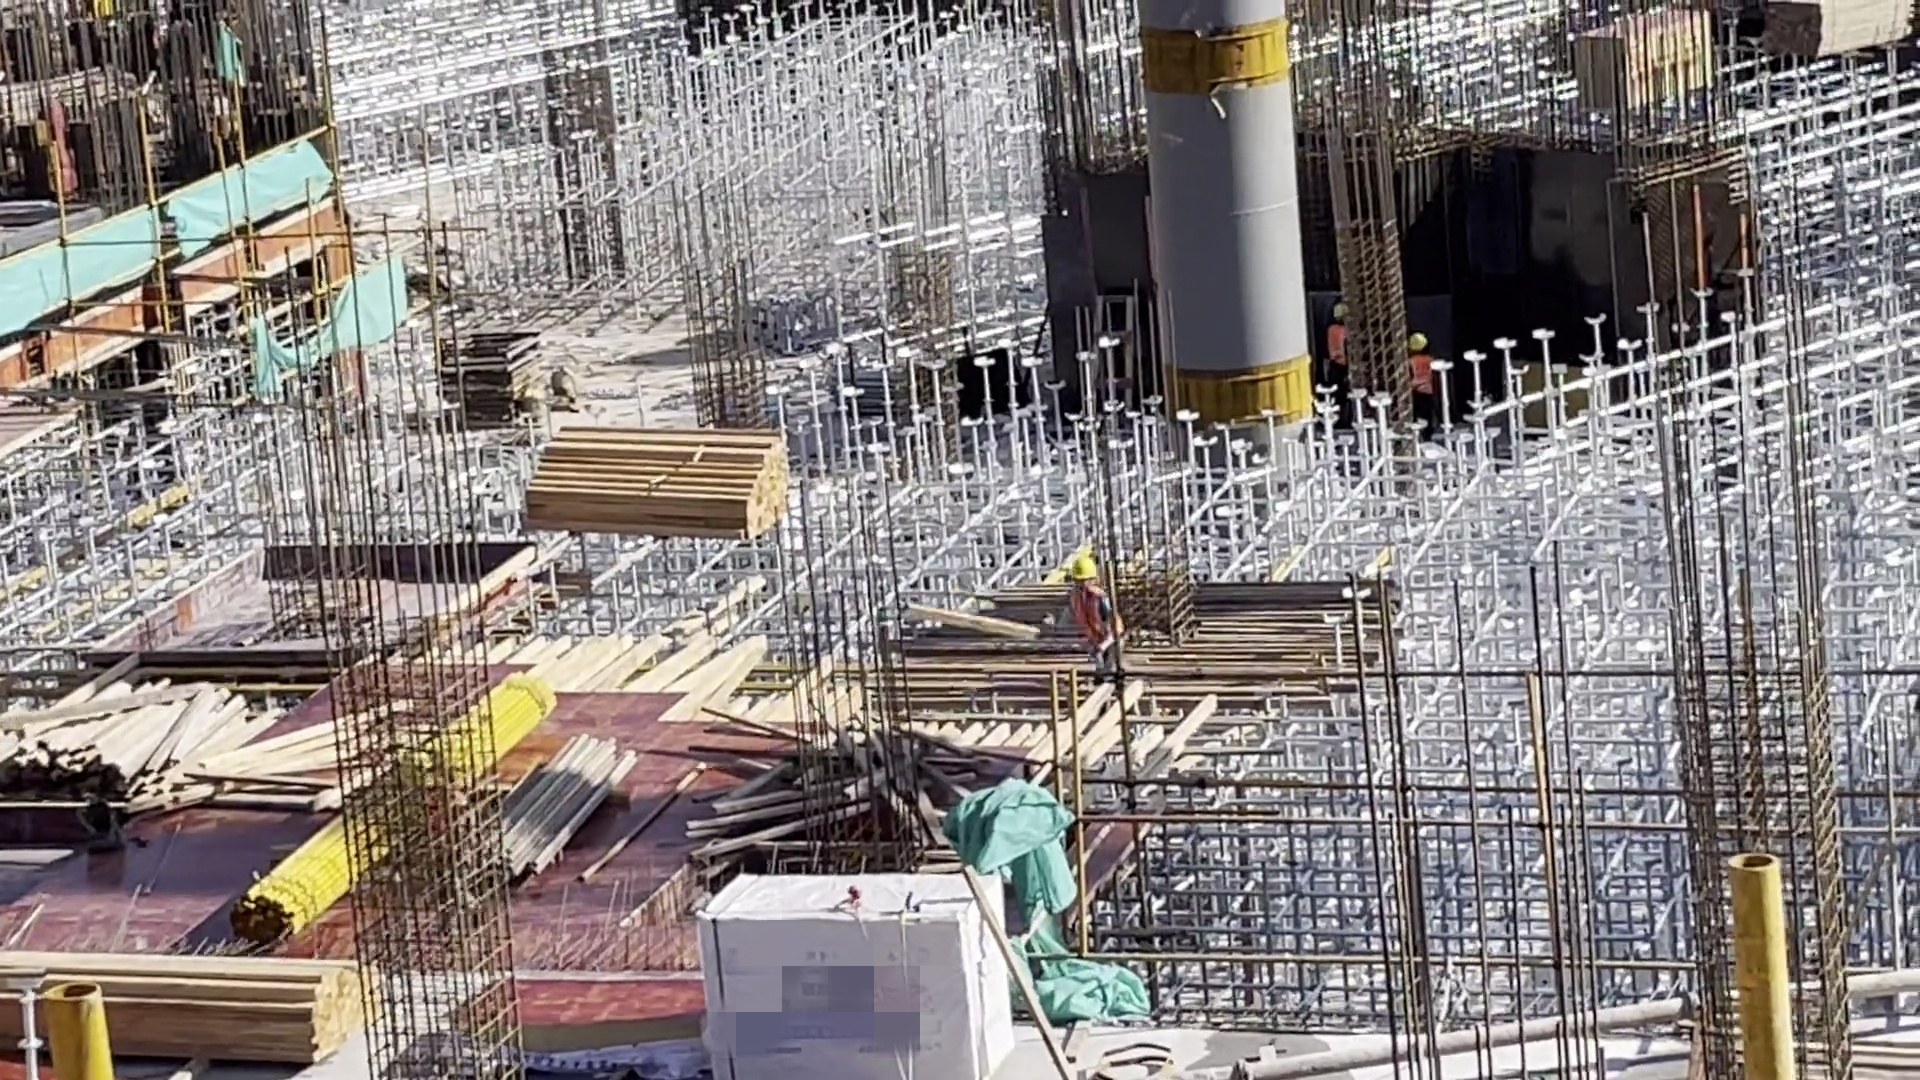board: (436, 305, 550, 427)
helmet: (1070, 555, 1105, 589), (1403, 331, 1432, 352), (1329, 300, 1352, 327)
person: (1059, 556, 1138, 697), (1398, 324, 1452, 452), (1323, 306, 1372, 419)
vest: (1069, 585, 1130, 653), (1404, 356, 1437, 403), (1327, 324, 1356, 375)
wood: (1, 669, 274, 826), (1, 941, 366, 1055), (523, 413, 815, 544), (1765, 1, 1898, 71)
